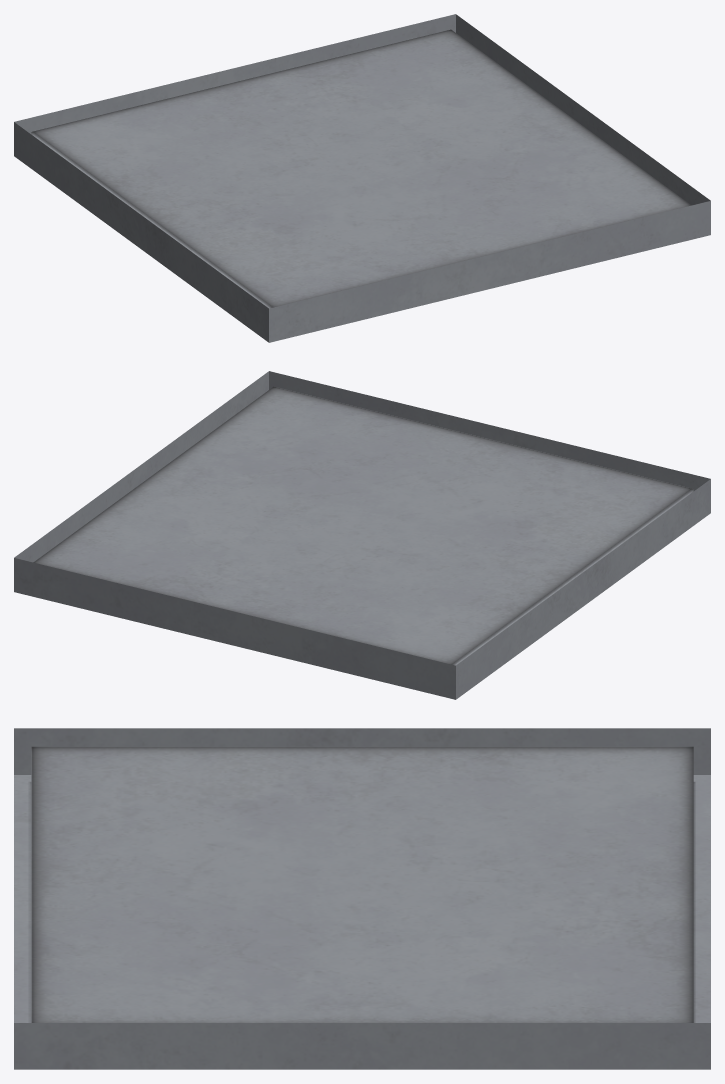
The model's file is Ceiling Light 2x2.fbx.
The picture shows the model from 3 angles, top to bottom: view 1: azimuth 30°, elevation 25°; view 2: azimuth 150°, elevation 25°; view 3: azimuth 270°, elevation 25°; orthographic projection. The views are drawn at different scales.
Parts seen in each view (by area): view 1: Ceiling_Light; view 2: Ceiling_Light; view 3: Ceiling_Light.
Boxes of the visible parts, <box> form: Ceiling_Light: <box>14,14,710,342</box>; Ceiling_Light: <box>14,371,710,699</box>; Ceiling_Light: <box>14,728,710,1069</box>.
Bounding box in the file's own units: 80 × 5.93 × 80.
